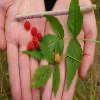Raspberry leaf: (19, 33, 62, 61), (64, 38, 83, 91), (67, 0, 84, 37), (44, 14, 65, 40), (58, 39, 65, 58)
